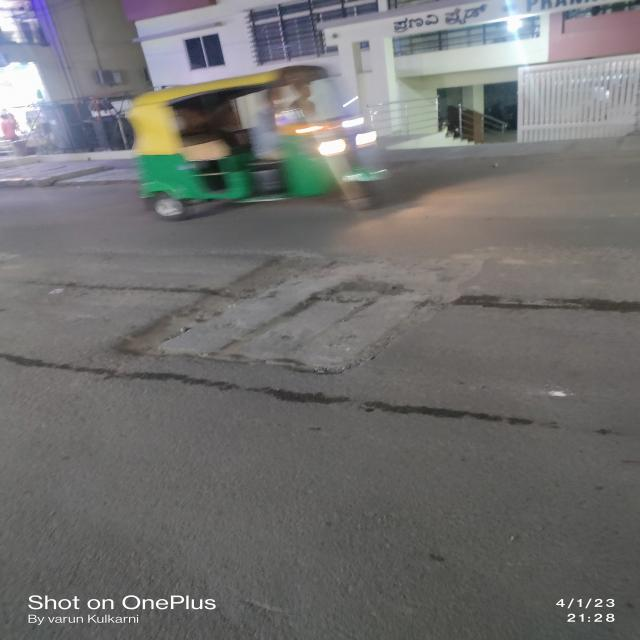manhole: (125, 249, 516, 378)
